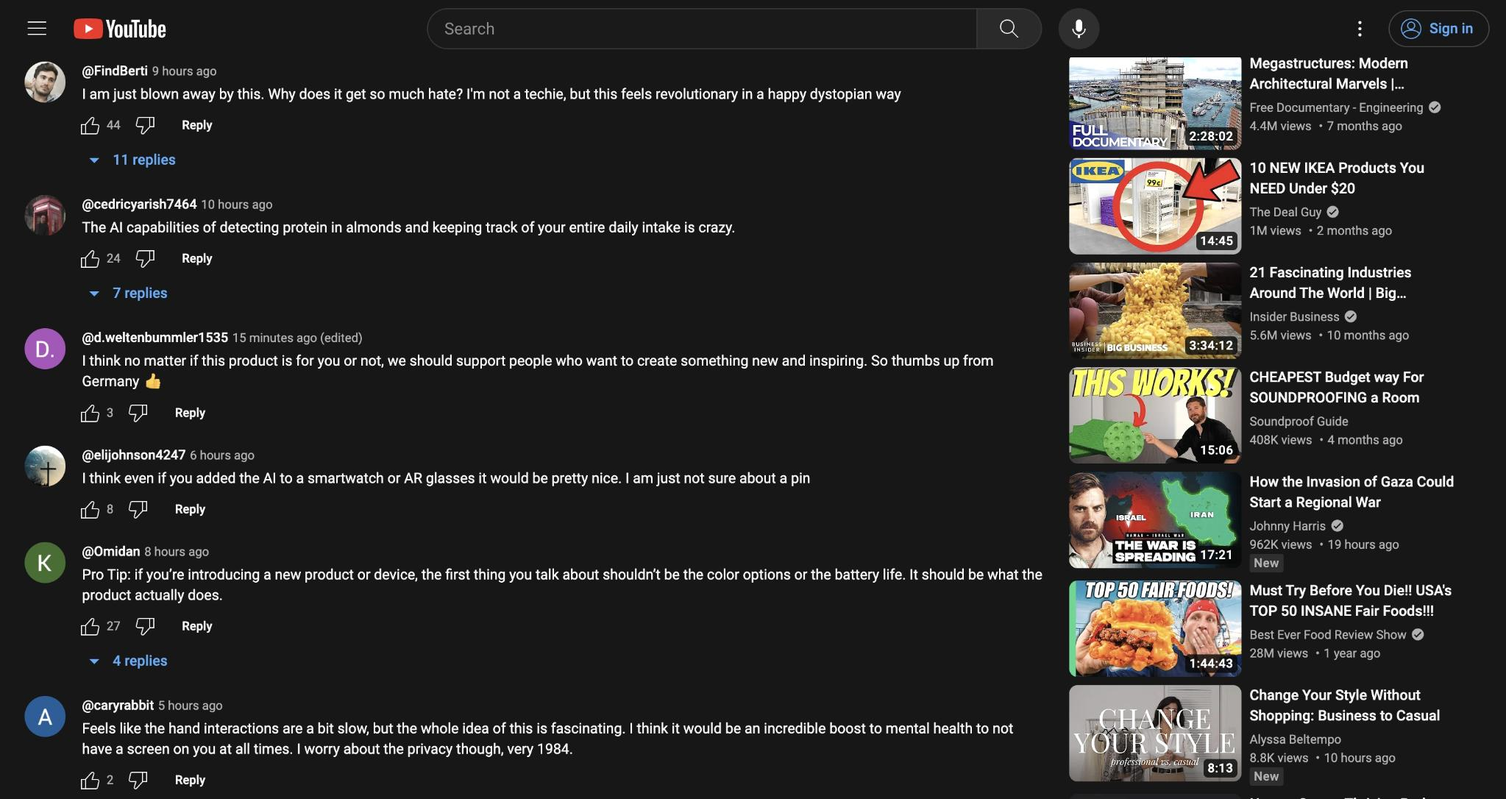webelement: (1083, 327, 1493, 799), (0, 0, 1505, 56), (82, 352, 997, 390), (1250, 471, 1456, 571), (1250, 684, 1456, 784), (1250, 157, 1456, 239), (1250, 366, 1456, 448), (1250, 579, 1456, 661), (1250, 53, 1456, 134), (1250, 262, 1456, 343), (1069, 470, 1241, 567), (1069, 579, 1241, 676), (1069, 53, 1241, 149), (1069, 157, 1241, 253), (1069, 262, 1241, 358), (1069, 366, 1241, 462), (1069, 684, 1241, 780), (445, 15, 972, 41), (1250, 157, 1456, 198), (1250, 471, 1456, 512), (1250, 580, 1456, 621), (1250, 53, 1456, 93), (1250, 262, 1456, 302), (1250, 367, 1456, 407), (1250, 685, 1456, 725), (56, 0, 179, 56), (71, 141, 191, 177), (71, 641, 184, 678), (71, 274, 184, 310), (1388, 10, 1489, 46), (977, 8, 1042, 48), (232, 329, 362, 347), (81, 330, 228, 344), (168, 108, 223, 141), (168, 241, 223, 274), (162, 491, 217, 524), (168, 608, 223, 641), (162, 762, 217, 795), (162, 395, 217, 427), (81, 196, 196, 211), (1059, 8, 1100, 48), (24, 541, 64, 582), (1339, 8, 1379, 48), (24, 61, 64, 101), (24, 194, 64, 234), (24, 328, 64, 368), (24, 445, 64, 485), (24, 695, 64, 735), (1114, 509, 1195, 528), (1114, 618, 1195, 637), (1114, 92, 1195, 110), (1114, 196, 1195, 214), (1114, 301, 1195, 319), (1114, 405, 1195, 423), (1114, 723, 1195, 741), (82, 447, 185, 461), (1314, 327, 1408, 341), (200, 195, 272, 213), (1250, 793, 1456, 799), (1314, 118, 1402, 132), (1304, 223, 1392, 237), (1315, 432, 1403, 446), (151, 61, 215, 80), (189, 445, 253, 464), (1315, 537, 1399, 551), (1311, 750, 1395, 764), (144, 542, 208, 560), (157, 696, 221, 714), (1315, 14, 1396, 28), (127, 108, 160, 141), (127, 241, 160, 274), (121, 491, 154, 524), (127, 608, 160, 641), (121, 762, 154, 795), (111, 151, 174, 168), (73, 108, 105, 141), (73, 241, 105, 274), (121, 395, 154, 427), (73, 491, 105, 524), (73, 608, 105, 641), (73, 762, 105, 795), (1069, 793, 1241, 799), (73, 395, 105, 427), (81, 697, 153, 711), (1311, 646, 1379, 660), (112, 284, 167, 301), (112, 651, 167, 668), (81, 63, 147, 77), (81, 543, 139, 558), (1250, 14, 1312, 28), (1250, 432, 1312, 446), (1250, 537, 1312, 551), (1250, 118, 1311, 132), (1250, 327, 1311, 341), (1250, 646, 1308, 660), (1250, 750, 1308, 764), (1429, 19, 1473, 36), (1250, 223, 1300, 237), (1456, 471, 1481, 496), (1456, 579, 1481, 604), (1456, 53, 1481, 77), (1456, 157, 1481, 181), (1456, 262, 1481, 286), (1456, 366, 1481, 390), (1456, 685, 1481, 709), (24, 16, 48, 40), (1347, 16, 1371, 40), (1189, 129, 1233, 141), (1189, 338, 1233, 350), (1189, 657, 1233, 669), (181, 117, 211, 131), (175, 404, 205, 418), (175, 501, 205, 515), (181, 618, 211, 632), (175, 771, 205, 785), (181, 251, 211, 264), (1200, 25, 1232, 37), (1200, 234, 1232, 246), (1200, 548, 1232, 560), (1200, 444, 1232, 455), (1254, 555, 1279, 569), (1254, 768, 1279, 782), (1207, 761, 1232, 773), (143, 372, 160, 388), (1339, 309, 1358, 323), (1325, 518, 1344, 532), (1406, 627, 1425, 641), (1424, 100, 1442, 114), (1321, 204, 1339, 218), (106, 115, 119, 134), (106, 248, 119, 267), (106, 615, 119, 634), (1456, 793, 1481, 799), (106, 498, 112, 517), (106, 769, 112, 788), (106, 402, 112, 420)
